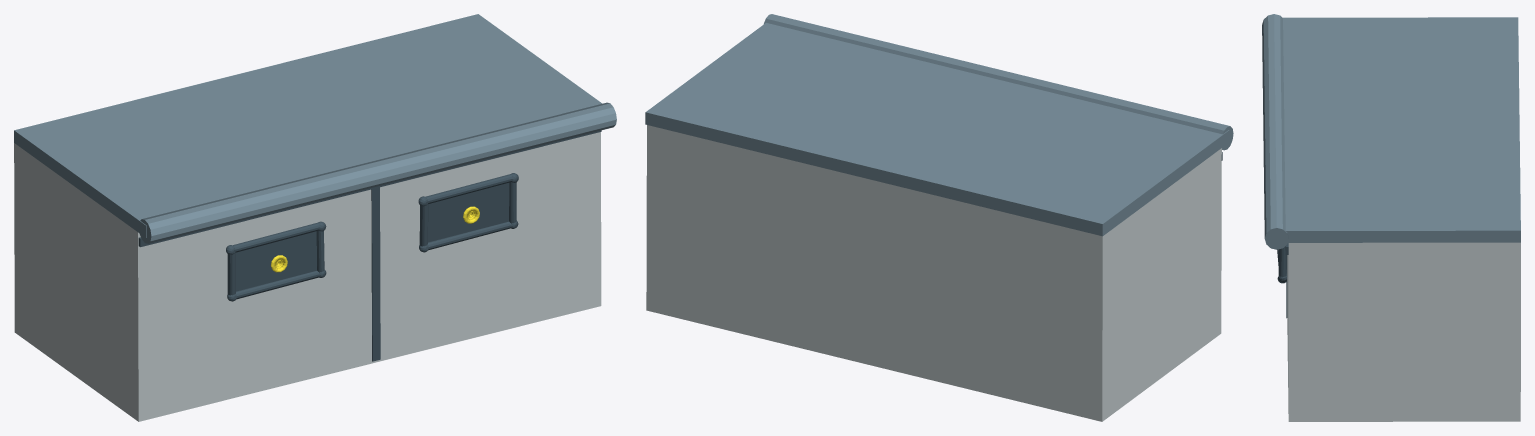
The model's file is LabDesk.fbx.
3 renders of one model, left to right at view 1: azimuth 30°, elevation 25°; view 2: azimuth 150°, elevation 25°; view 3: azimuth 270°, elevation 25°, orthographic. The views are drawn at different scales.
Parts seen in each view (by area): view 1: LabDesk; view 2: LabDesk; view 3: LabDesk.
Part boxes in pixels (left/top/right/bottom): LabDesk: left=14, top=14, right=616, bottom=421; LabDesk: left=645, top=14, right=1233, bottom=421; LabDesk: left=1262, top=14, right=1520, bottom=421.
Size of the model in its own units: 2.33 by 0.9882 by 1.18.
